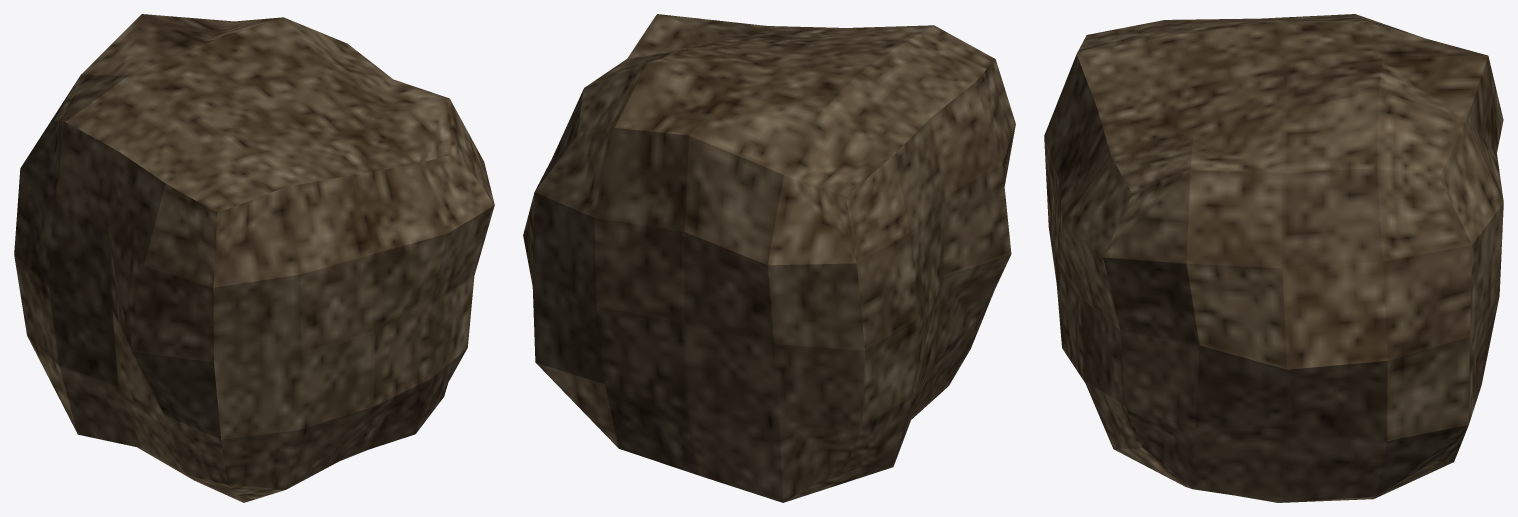
The model's file is SM_EC_Rock_21.fbx.
3 renders of one model, left to right at view 1: azimuth 30°, elevation 25°; view 2: azimuth 150°, elevation 25°; view 3: azimuth 270°, elevation 25°, orthographic. The views are drawn at different scales.
Visible parts, largest first — view 1: SM_EC_Rock_21; view 2: SM_EC_Rock_21; view 3: SM_EC_Rock_21.
Boxes of the visible parts, x1,y1,x2,y2 form: SM_EC_Rock_21: (14, 14, 494, 502); SM_EC_Rock_21: (523, 14, 1015, 502); SM_EC_Rock_21: (1044, 14, 1503, 502).
Bounding box in the file's own units: 0.7686 × 0.726 × 0.7426.
